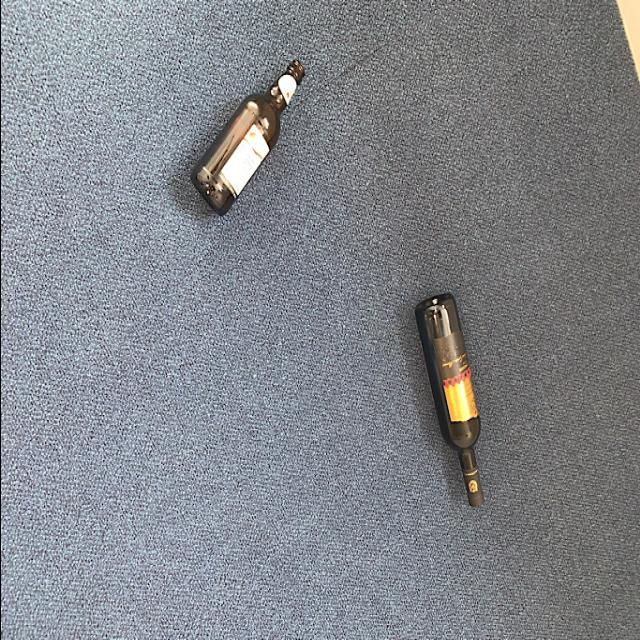Glass Bottle: (182, 51, 310, 232), (412, 289, 490, 515)
